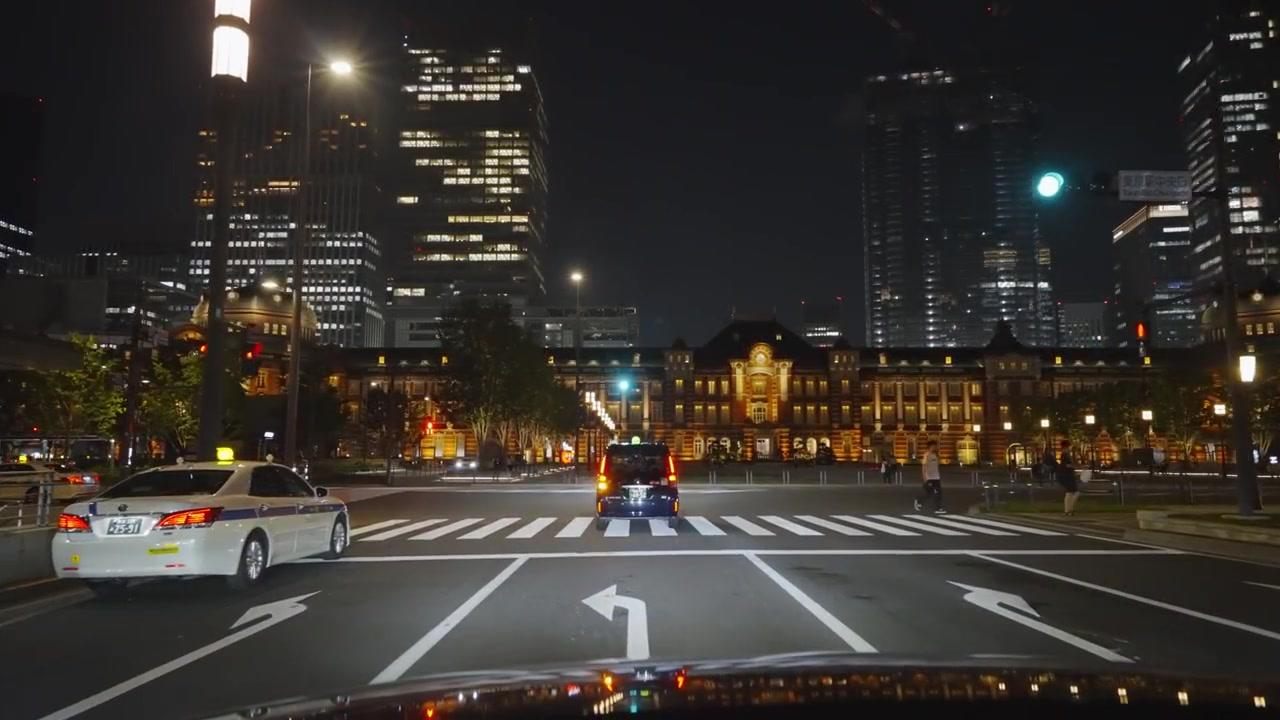bus: (595, 441, 681, 517)
car: (51, 458, 351, 597), (595, 442, 681, 520)
person: (916, 447, 945, 513), (1056, 449, 1084, 515)
traffic light: (1033, 169, 1066, 200), (242, 342, 262, 377), (615, 369, 637, 398), (1136, 321, 1149, 355)
